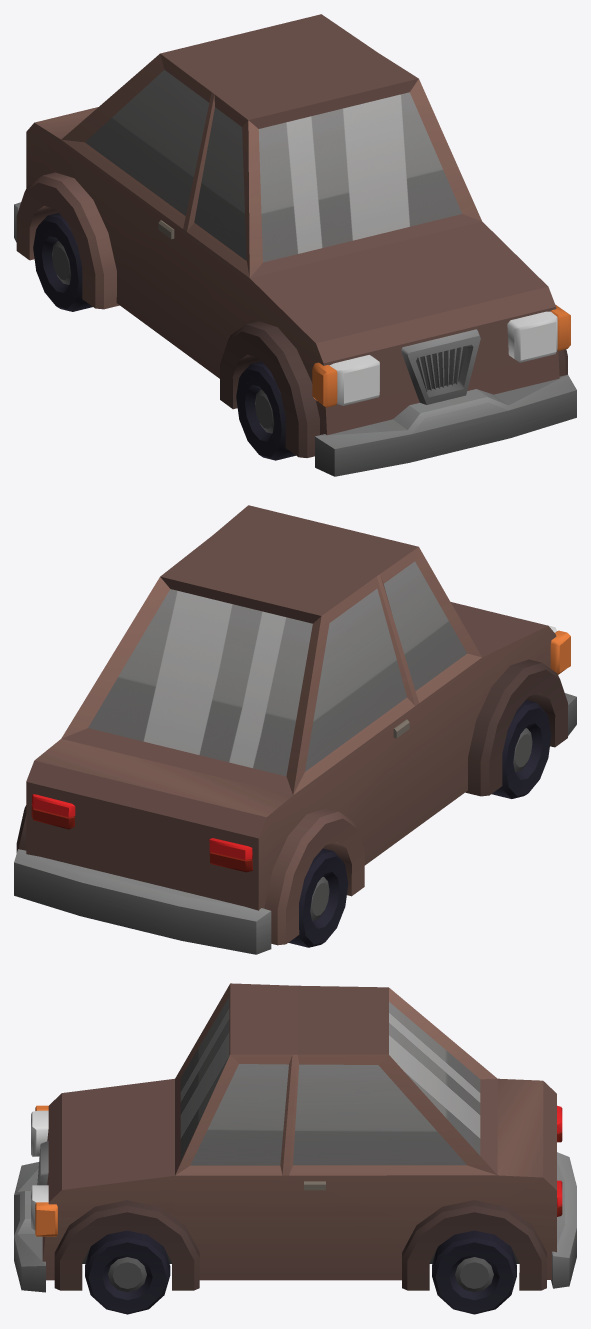
File: Car_4_19.fbx
The picture shows the model from 3 angles, top to bottom: view 1: azimuth 30°, elevation 25°; view 2: azimuth 150°, elevation 25°; view 3: azimuth 270°, elevation 25°; orthographic projection. The views are drawn at different scales.
Parts seen in each view (by area): view 1: Car_4_19, BWhel_FR, BWhel_BR; view 2: Car_4_19, BWhel_BR, BWhel_FR; view 3: Car_4_19, BWhel_FL, BWhel_BL.
Boxes of the visible parts, x1,y1,x2,y2 form: Car_4_19: (14, 14, 576, 476); BWhel_FR: (236, 361, 295, 460); BWhel_BR: (33, 212, 92, 311); Car_4_19: (14, 505, 576, 954); BWhel_BR: (288, 848, 348, 947); BWhel_FR: (491, 700, 551, 798); Car_4_19: (14, 983, 576, 1292); BWhel_FL: (85, 1230, 170, 1314); BWhel_BL: (432, 1230, 516, 1314).
Size of the model in its own units: 109 by 109 by 230.
